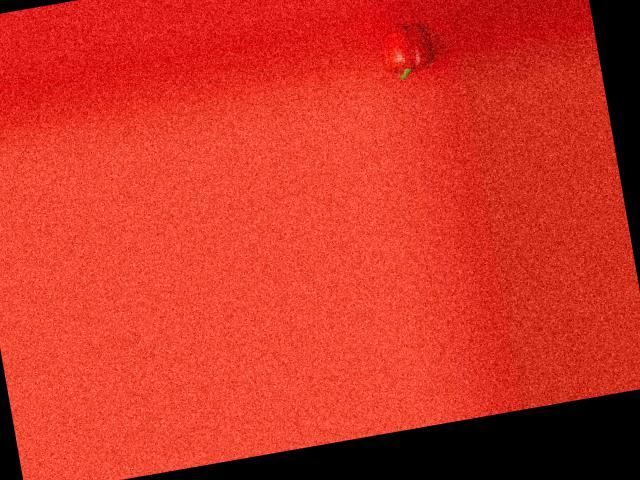bell_pepper: (378, 16, 439, 83)
